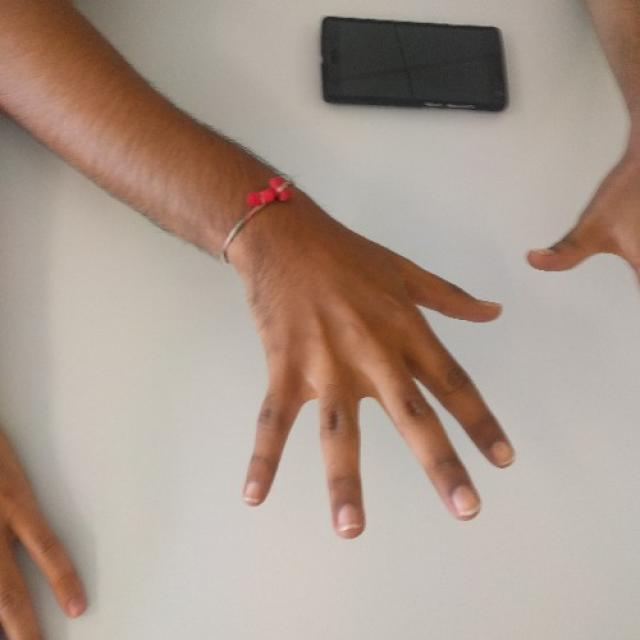paper: (240, 289, 516, 537)
